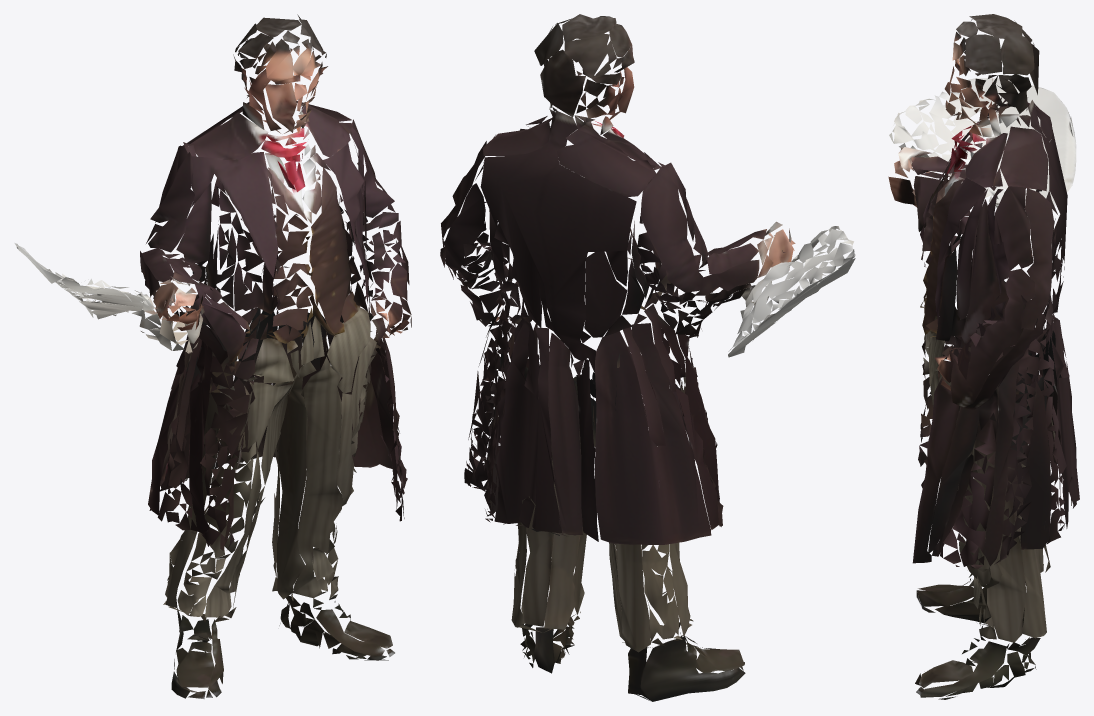
File: char_actor_m2.glb
3 renders of one model, left to right at view 1: azimuth 30°, elevation 25°; view 2: azimuth 150°, elevation 25°; view 3: azimuth 270°, elevation 25°, orthographic. The views are drawn at different scales.
Parts seen in each view (by area): view 1: geometry_0; view 2: geometry_0; view 3: geometry_0.
Boxes of the visible parts, <box> form: geometry_0: <box>14,14,411,699</box>; geometry_0: <box>440,14,855,701</box>; geometry_0: <box>888,14,1079,699</box>.
Size of the model in its own units: 1.13 by 1.8 by 0.4945.
Materials: 1 (1 with a texture image).
